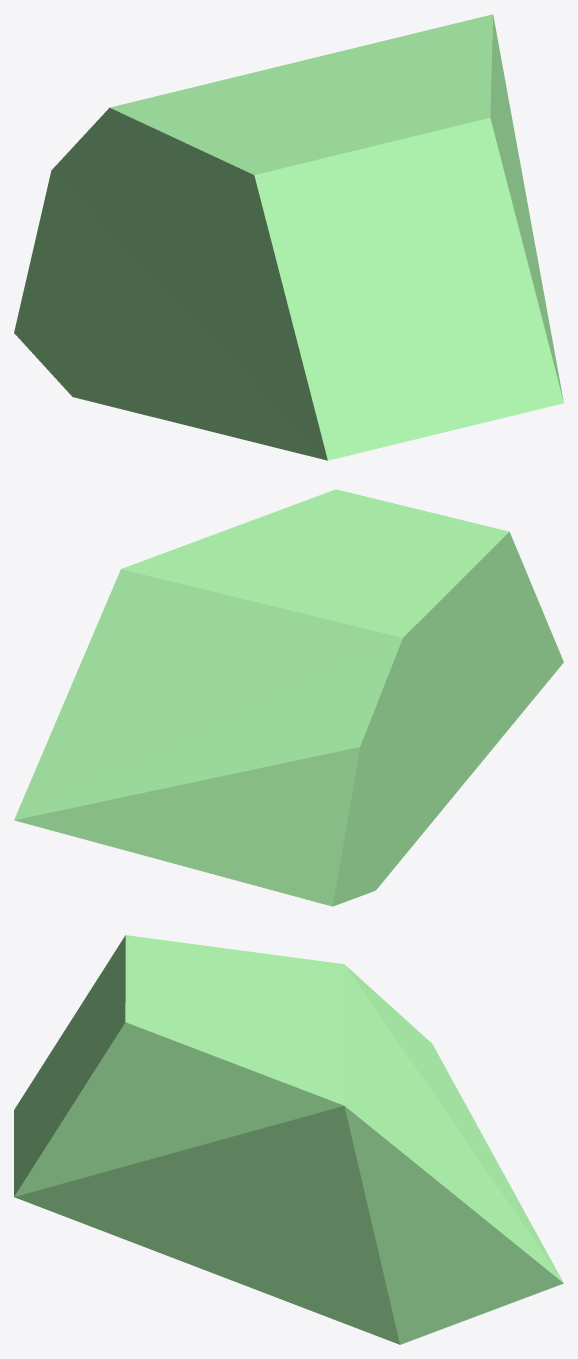
The model's file is dvkr_robot_Lp21_respondable_PSM1_coll_4.dae.
3 views of the same model, one above another, from view 1: azimuth 30°, elevation 25°; view 2: azimuth 150°, elevation 25°; view 3: azimuth 270°, elevation 25° (orthographic). The views are drawn at different scales.
Parts seen in each view (by area): view 1: Node_0000023514CD9290; view 2: Node_0000023514CD9290; view 3: Node_0000023514CD9290.
Boxes of the visible parts, x1,y1,x2,y2 form: Node_0000023514CD9290: (14,14,563,460); Node_0000023514CD9290: (14,489,563,906); Node_0000023514CD9290: (14,935,563,1344).
Size of the model in its own units: 0.013 by 0.0115 by 0.0214.
